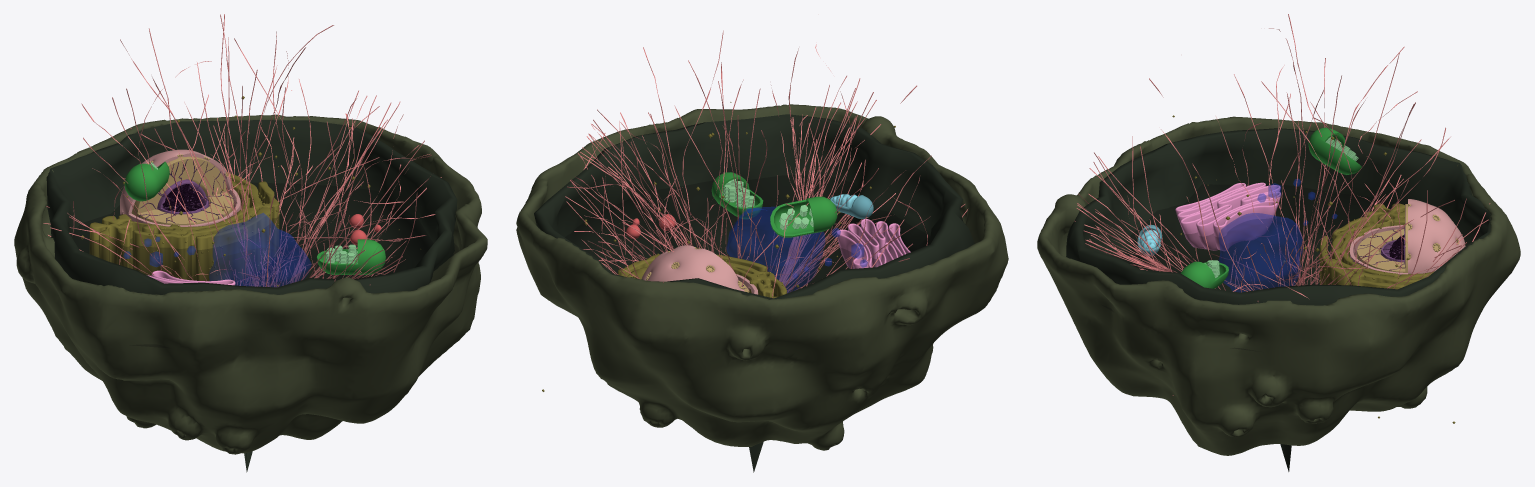
The model's file is plant-cell.glb.
3 views of the same model, side by side, from view 1: azimuth 30°, elevation 25°; view 2: azimuth 150°, elevation 25°; view 3: azimuth 270°, elevation 25° (orthographic). The views are drawn at different scales.
Parts seen in each view (by area): view 1: cell_wall, lipid_bilayer, cytoskeleton, Disc, rough_smooth_er, central_vacuole_, Nucleus_2, Icosphere, Boole_1, Boole, Nucleolus_2, chromatin (+2 smaller); view 2: cell_wall, lipid_bilayer, cytoskeleton, Disc, central_vacuole_, Icosphere, golgi, Boole, rough_smooth_er, Boole_1, Cloner_1, Sphere_002 (+1 smaller); view 3: cell_wall, lipid_bilayer, cytoskeleton, Disc, central_vacuole_, golgi, rough_smooth_er, Icosphere, Nucleus_2, Boole, Boole_1.
Boxes of the visible parts, left/top/right/bottom form: cell_wall: left=14, top=114, right=487, bottom=454; lipid_bilayer: left=46, top=120, right=457, bottom=472; cytoskeleton: left=43, top=14, right=441, bottom=286; Disc: left=73, top=183, right=458, bottom=347; rough_smooth_er: left=89, top=172, right=280, bottom=281; central_vacuole_: left=209, top=213, right=311, bottom=286; Nucleus_2: left=131, top=156, right=233, bottom=225; Icosphere: left=120, top=149, right=240, bottom=226; Boole_1: left=316, top=239, right=385, bottom=274; Boole: left=124, top=161, right=169, bottom=201; Nucleolus_2: left=162, top=184, right=201, bottom=211; chromatin: left=139, top=159, right=232, bottom=223; cell_wall: left=516, top=104, right=1008, bottom=450; lipid_bilayer: left=534, top=114, right=974, bottom=472; cytoskeleton: left=565, top=30, right=967, bottom=297; Disc: left=565, top=174, right=928, bottom=296; central_vacuole_: left=726, top=207, right=824, bottom=292; Icosphere: left=641, top=245, right=758, bottom=294; golgi: left=836, top=219, right=910, bottom=268; Boole: left=770, top=196, right=837, bottom=237; rough_smooth_er: left=618, top=253, right=786, bottom=298; Boole_1: left=711, top=172, right=763, bottom=219; Cloner_1: left=722, top=179, right=754, bottom=207; Sphere_002: left=830, top=195, right=873, bottom=218; cell_wall: left=1037, top=116, right=1520, bottom=455; lipid_bilayer: left=1066, top=128, right=1490, bottom=471; cytoskeleton: left=1074, top=14, right=1490, bottom=395; Disc: left=1102, top=184, right=1403, bottom=350; central_vacuole_: left=1218, top=213, right=1302, bottom=292; golgi: left=1175, top=182, right=1281, bottom=250; rough_smooth_er: left=1318, top=203, right=1434, bottom=289; Icosphere: left=1350, top=199, right=1465, bottom=275; Nucleus_2: left=1357, top=204, right=1438, bottom=272; Boole: left=1308, top=127, right=1361, bottom=174; Boole_1: left=1180, top=261, right=1228, bottom=288.
Size of the model in its own units: 8.63 by 8.62 by 8.94.
